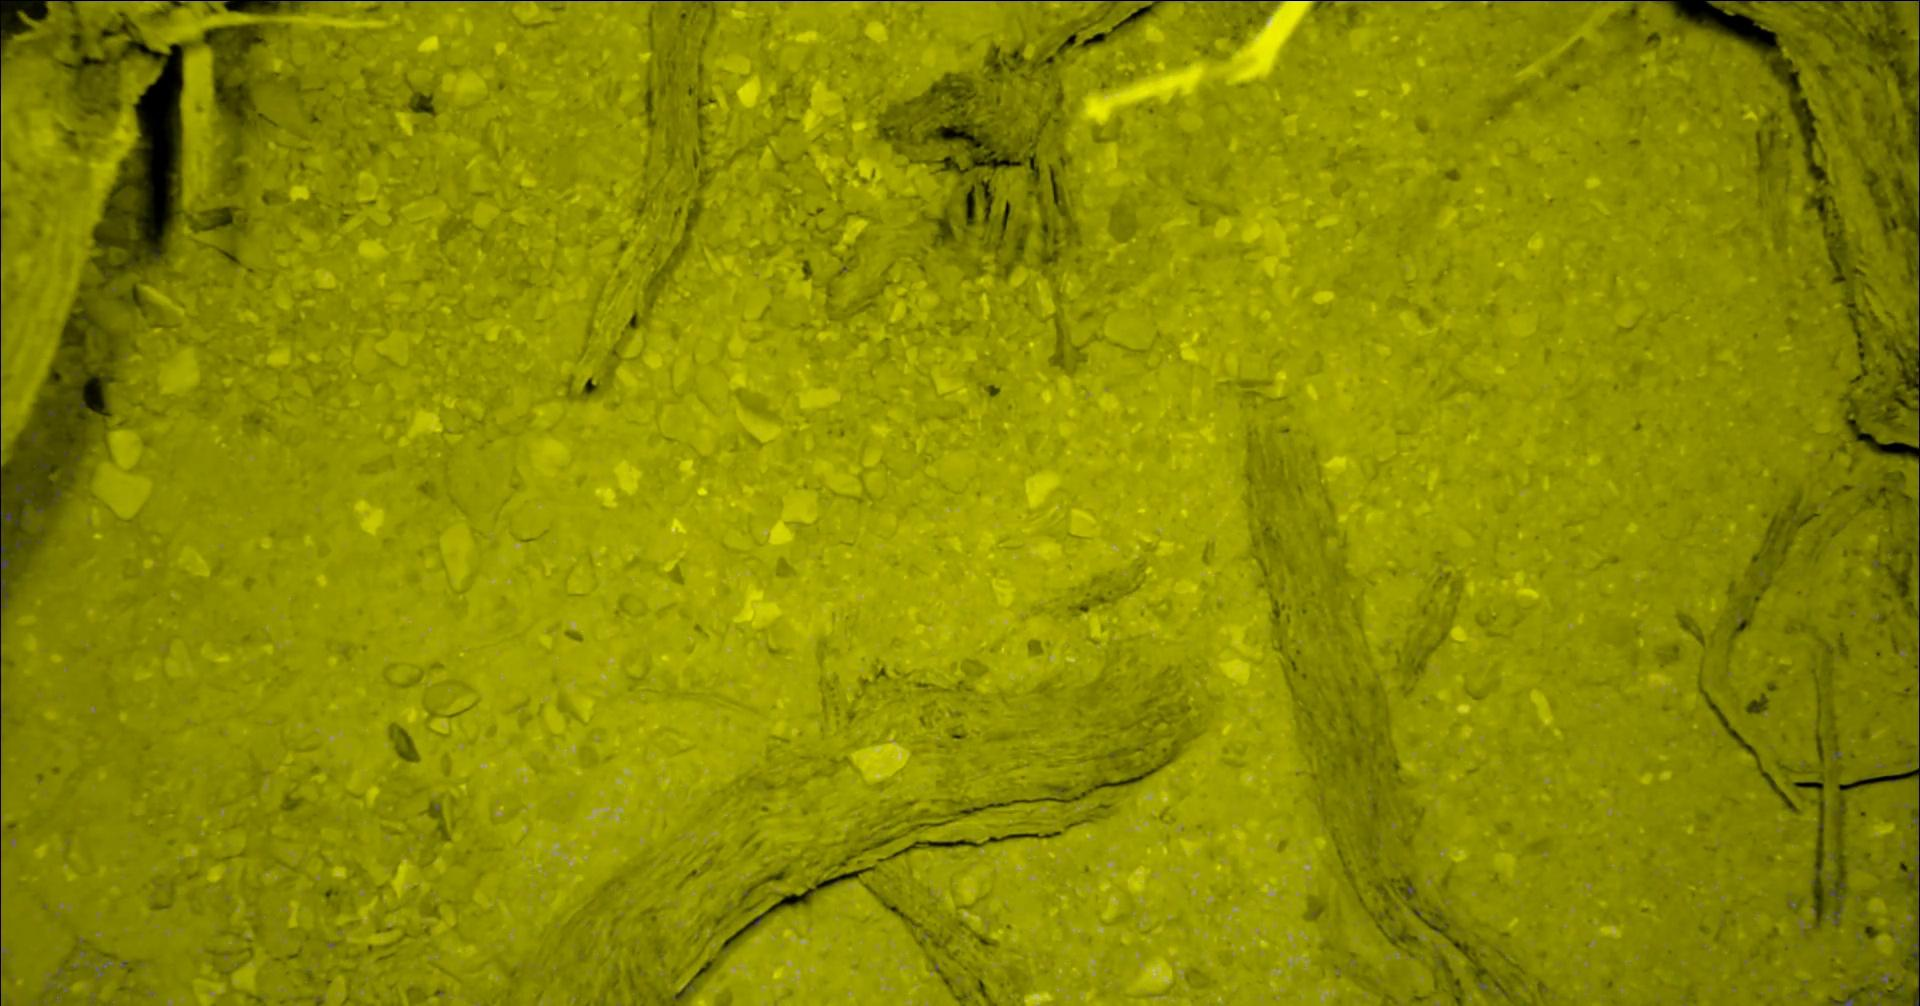ant: (1912, 800, 1920, 934), (1, 575, 9, 626), (1804, 0, 1902, 1), (1708, 0, 1768, 1)
